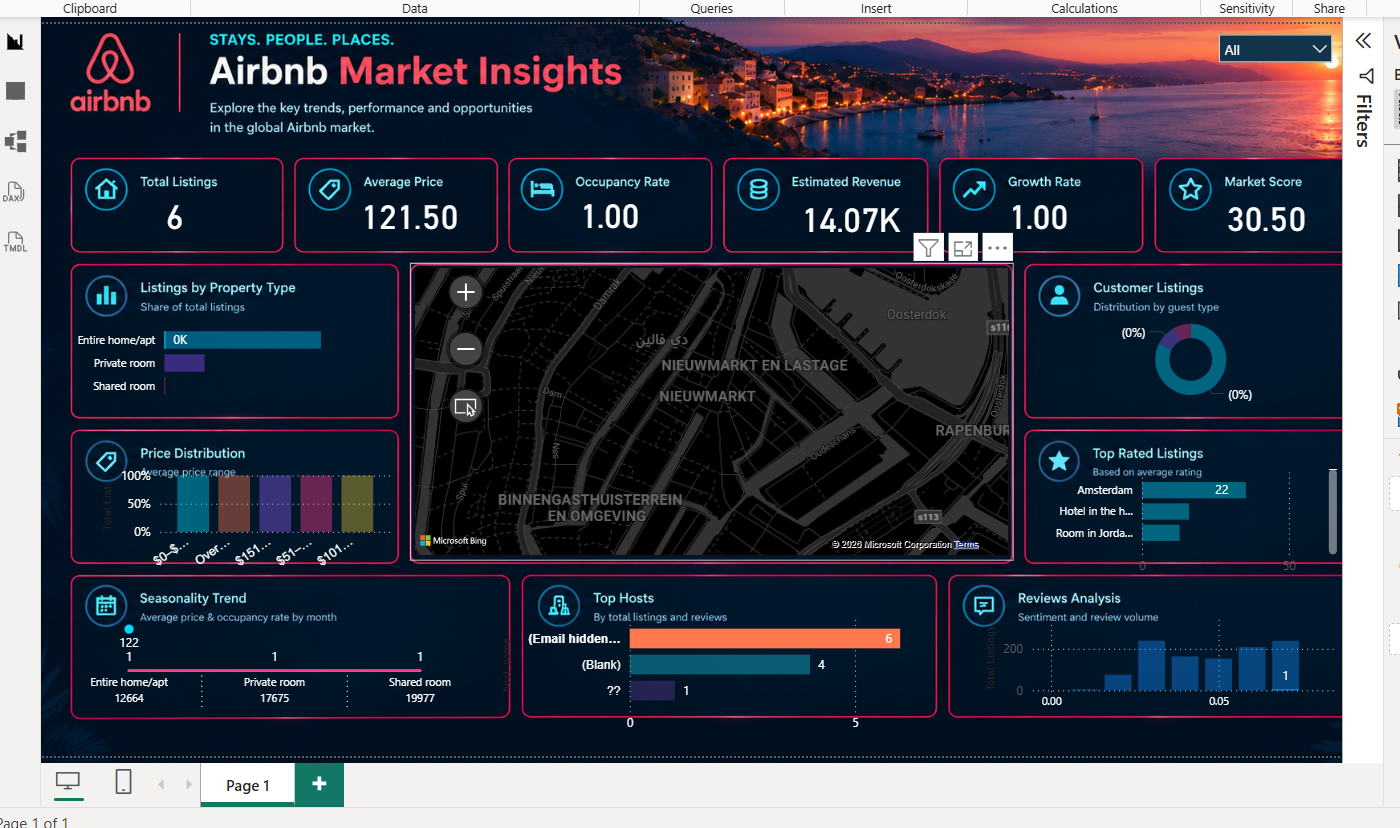

This screenshot's page, from the dashboard's own definition file:
{"tool":"powerbi","page":{"name":"Page 1","canvas":[1280,720],"ordinal":0},"visuals":[{"type":"card","fields":{"Values":["dim_host.Total Listings"]},"box":[24.6,143.9,214,88.5],"z":0},{"type":"card","fields":{"Values":["dim_host.Average Price"]},"box":[259.5,150,206.6,75],"z":1},{"type":"card","fields":{"Values":["dim_host.Occupancy Rate"]},"box":[452.4,146.7,214,81.9],"z":2},{"type":"card","fields":{"Values":["dim_host.Estimated Revenue"]},"box":[689.7,146.7,214,88],"z":3},{"type":"card","fields":{"Values":["dim_host.Average Listings per Host"]},"box":[874.4,143.9,214,88.5],"z":4},{"type":"card","fields":{"Values":["dim_host.Market Score"]},"box":[1157.3,148.8,97.2,82.4],"z":5},{"type":"clusteredBarChart","fields":{"Category":["silver_listings.room_type"],"Y":["CountNonNull(silver_listings.id)"]},"box":[24.6,280.4,298.8,99.6],"z":6},{"type":"map","fields":{"Y":["silver_listings.latitude"],"X":["silver_listings.longitude"],"Size":["CountNonNull(silver_listings.id)"]},"box":[362.8,234.9,594,292.7],"z":7},{"type":"donutChart","fields":{"Category":["dim_neighbourhood.neighbourhood"],"Y":["Sum(silver_listings.id)"]},"box":[1008.5,280.4,246,99.6],"z":8},{"type":"clusteredBarChart","fields":{"Category":["silver_listings.name"],"Y":["Sum(silver_listings.reviews_per_month)"]},"box":[981.4,425.5,298.8,125.4],"z":9},{"type":"hundredPercentStackedColumnChart","fields":{"Category":["silver_listings.Price Range"],"Y":["dim_host.Total Listings"]},"box":[55.3,430.4,293.9,114.4],"z":10},{"type":"lineChart","fields":{"Y":["dim_host.Average Price","dim_host.Occupancy Rate"],"Category":["dim_room_type.room_type_id","dim_room_type.room_type"]},"box":[24.6,571.9,410.8,111.9],"z":11},{"type":"clusteredBarChart","fields":{"Category":["silver_listings.host_name"],"Y":["dim_host.Total Listings"]},"box":[447.7,571.9,420.6,134.1],"z":12},{"type":"clusteredColumnChart","fields":{"Category":["silver_listings.reviews_per_month"],"Y":["dim_host.Total Listings Count"]},"box":[923.6,571.9,356.6,111.9],"z":13},{"type":"slicer","fields":{"Values":["dim_room_type.room_type"]},"box":[1148.7,0,131.6,43],"z":14}]}

Visuals, with their boxes on the page's 1280x720 design canvas (x1, y1, x2, y2). These are canvas units, not pixel positions in the 1400x828 screenshot, which may show the page scaled, cropped or inside an application window:
card - dim_host.Total Listings: x1=25, y1=144, x2=239, y2=232
card - dim_host.Average Price: x1=260, y1=150, x2=466, y2=225
card - dim_host.Occupancy Rate: x1=452, y1=147, x2=666, y2=229
card - dim_host.Estimated Revenue: x1=690, y1=147, x2=904, y2=235
card - dim_host.Average Listings per Host: x1=874, y1=144, x2=1088, y2=232
card - dim_host.Market Score: x1=1157, y1=149, x2=1254, y2=231
clusteredBarChart - silver_listings.room_type x CountNonNull(silver_listings.id): x1=25, y1=280, x2=323, y2=380
map - silver_listings.latitude x silver_listings.longitude: x1=363, y1=235, x2=957, y2=528
donutChart - dim_neighbourhood.neighbourhood x Sum(silver_listings.id): x1=1008, y1=280, x2=1254, y2=380
clusteredBarChart - silver_listings.name x Sum(silver_listings.reviews_per_month): x1=981, y1=426, x2=1280, y2=551
hundredPercentStackedColumnChart - silver_listings.Price Range x dim_host.Total Listings: x1=55, y1=430, x2=349, y2=545
lineChart - dim_host.Average Price x dim_host.Occupancy Rate: x1=25, y1=572, x2=435, y2=684
clusteredBarChart - silver_listings.host_name x dim_host.Total Listings: x1=448, y1=572, x2=868, y2=706
clusteredColumnChart - silver_listings.reviews_per_month x dim_host.Total Listings Count: x1=924, y1=572, x2=1280, y2=684
slicer - dim_room_type.room_type: x1=1149, y1=0, x2=1280, y2=43
